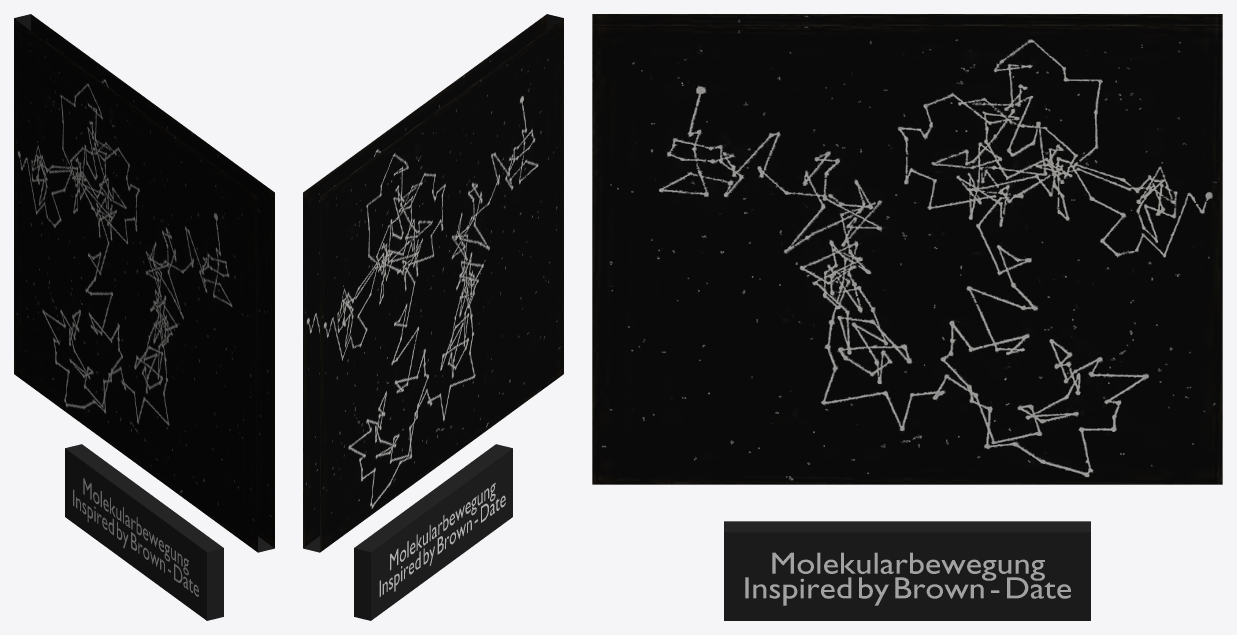
Rendered from MolekularBewegung.fbx.
3 renders of one model, left to right at view 1: azimuth 30°, elevation 25°; view 2: azimuth 150°, elevation 25°; view 3: azimuth 270°, elevation 25°, orthographic. The views are drawn at different scales.
Visible parts, largest first — view 1: Brown_sche Molekularbewegung, Pancarte, Text; view 2: Brown_sche Molekularbewegung, Pancarte, Text; view 3: Brown_sche Molekularbewegung, Pancarte, Text.001.
Boxes of the visible parts, x1,y1,x2,y2 form: Brown_sche Molekularbewegung: (14, 14, 274, 552); Pancarte: (65, 444, 223, 620); Text: (73, 478, 198, 596); Brown_sche Molekularbewegung: (303, 14, 563, 552); Pancarte: (354, 444, 512, 620); Text: (379, 483, 505, 596); Brown_sche Molekularbewegung: (592, 14, 1222, 484); Pancarte: (724, 521, 1090, 620); Text.001: (745, 552, 1070, 605).
Size of the model in its own units: 5.2 by 130 by 124.
4 materials, 1 textured.
